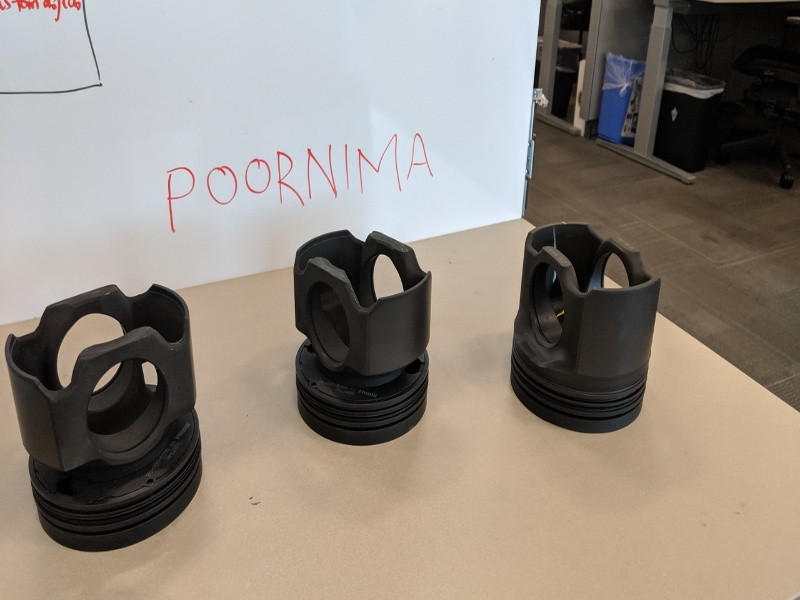piston: (5, 280, 213, 561), (281, 221, 444, 456), (508, 209, 665, 443)
